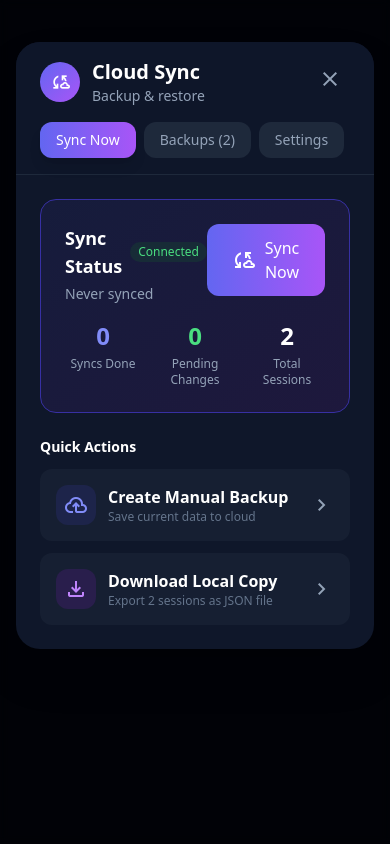
Scenario: CloudSyncModal › Backups Tab › should show backup list when backups exist
Click the button "Backups (2)" at point(197, 140), box [144,122,251,158]
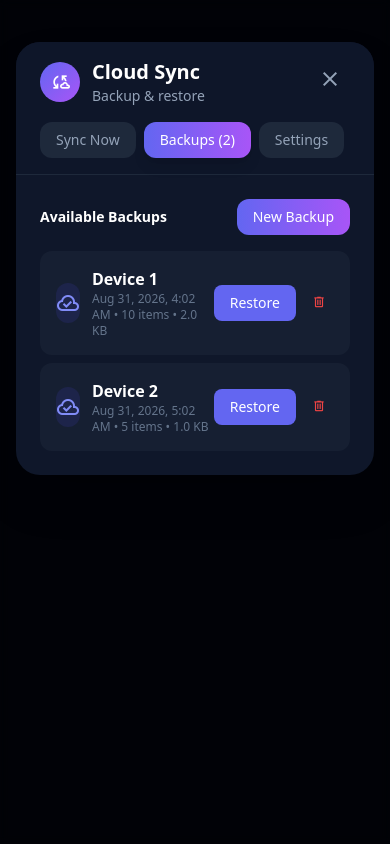
Now the text "Device 1" is shown, box [92,268,158,290]
Now the text "Device 2" is shown, box [92,380,158,402]
